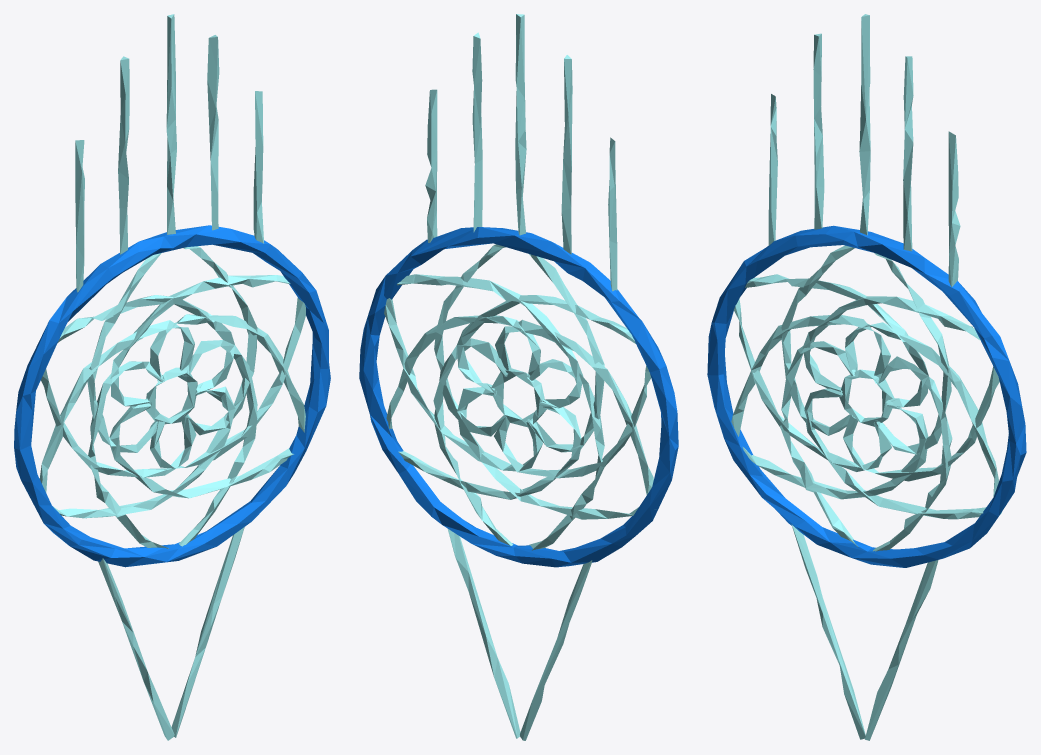
File: stm_env_DreamCatcher.fbx
3 renders of one model, left to right at view 1: azimuth 30°, elevation 25°; view 2: azimuth 150°, elevation 25°; view 3: azimuth 330°, elevation 25°, orthographic.
Parts seen in each view (by area): view 1: Dream_Catcher; view 2: Dream_Catcher; view 3: Dream_Catcher.
Part boxes in pixels (box(x1,y1,x2,y2)): Dream_Catcher: box(14, 14, 330, 740); Dream_Catcher: box(359, 14, 678, 740); Dream_Catcher: box(707, 14, 1026, 740).
Bounding box in the file's own units: 421 × 925 × 26.41.
